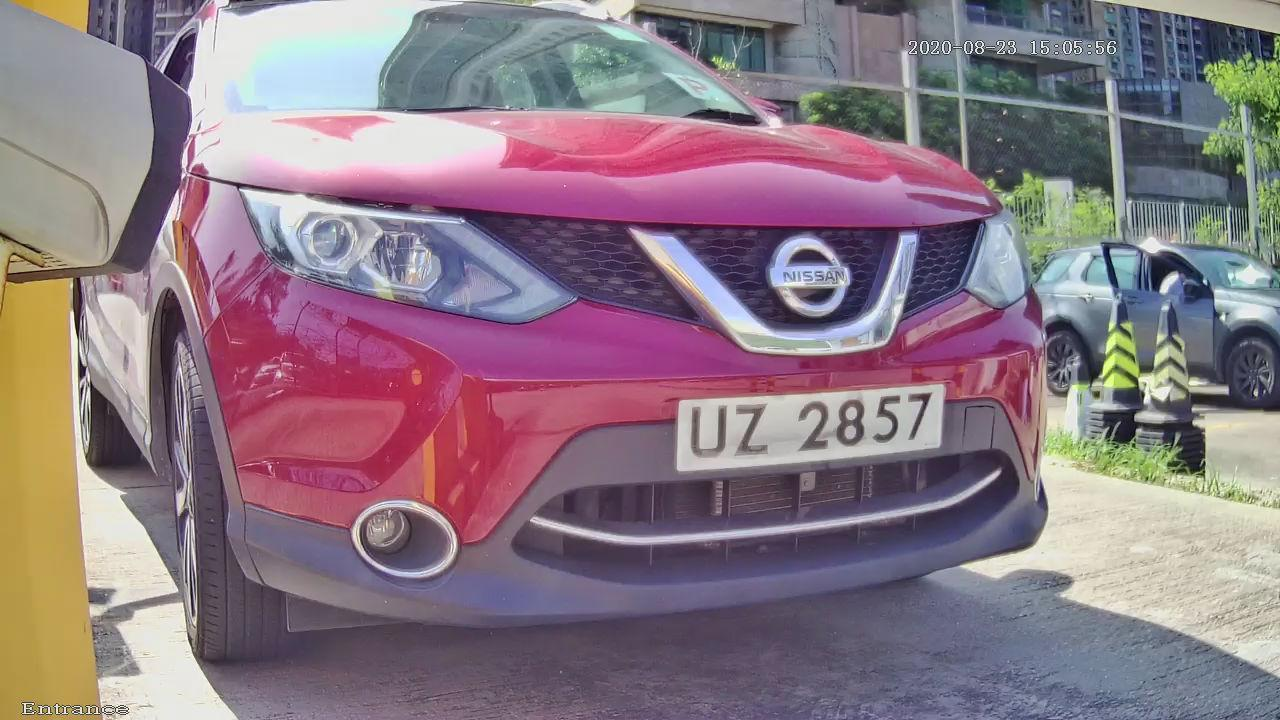Car: (41, 17, 1126, 672)
License Plate: (622, 333, 994, 522)
